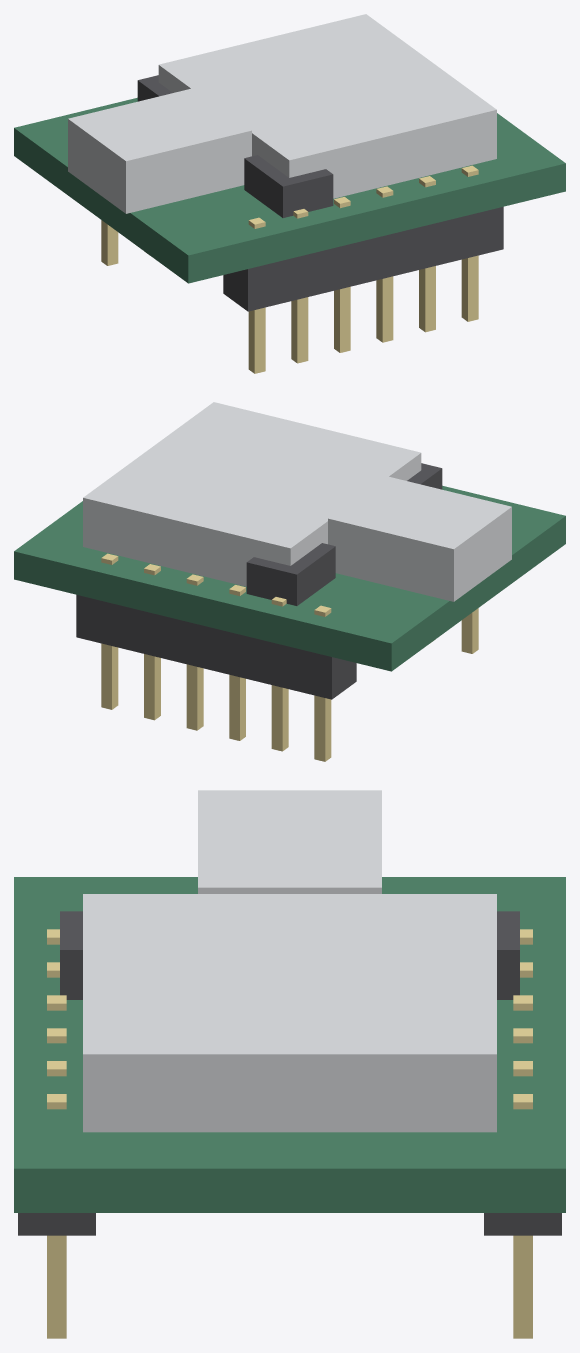
File: esp32-c3-supermini.glb
3 renders of one model, top to bottom at view 1: azimuth 30°, elevation 25°; view 2: azimuth 150°, elevation 25°; view 3: azimuth 270°, elevation 25°, orthographic. The views are drawn at different scales.
Parts seen in each view (by area): view 1: esp32-c3-supermini-metal, esp32-c3-supermini-pcb, esp32-c3-supermini-plastic, esp32-c3-supermini-pins; view 2: esp32-c3-supermini-metal, esp32-c3-supermini-pcb, esp32-c3-supermini-plastic, esp32-c3-supermini-pins; view 3: esp32-c3-supermini-metal, esp32-c3-supermini-pcb, esp32-c3-supermini-plastic, esp32-c3-supermini-pins.
Part boxes in pixels (bbox=[...]): esp32-c3-supermini-metal: bbox=[68, 14, 496, 213]; esp32-c3-supermini-pcb: bbox=[14, 97, 565, 283]; esp32-c3-supermini-plastic: bbox=[137, 75, 503, 311]; esp32-c3-supermini-pins: bbox=[101, 165, 478, 373]; esp32-c3-supermini-metal: bbox=[83, 402, 511, 601]; esp32-c3-supermini-pcb: bbox=[14, 485, 565, 671]; esp32-c3-supermini-plastic: bbox=[76, 463, 442, 699]; esp32-c3-supermini-pins: bbox=[101, 553, 478, 761]; esp32-c3-supermini-metal: bbox=[83, 790, 496, 1132]; esp32-c3-supermini-pcb: bbox=[14, 877, 565, 1212]; esp32-c3-supermini-plastic: bbox=[18, 911, 561, 1235]; esp32-c3-supermini-pins: bbox=[47, 929, 532, 1338].
Size of the model in its own units: 0.0228 by 0.0112 by 0.018.
